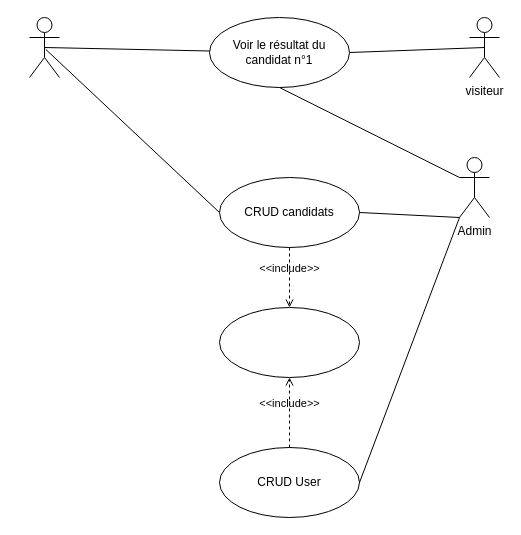
The diagram is 521 pixels wide and 535 high, and some of its shapes have lost their labels. The shapes that lost their labels are listed below. From the top down, each one's centre as x and y in pixels, then its label:
the point at 44,47: Operateur
the point at 289,342: Authentification
